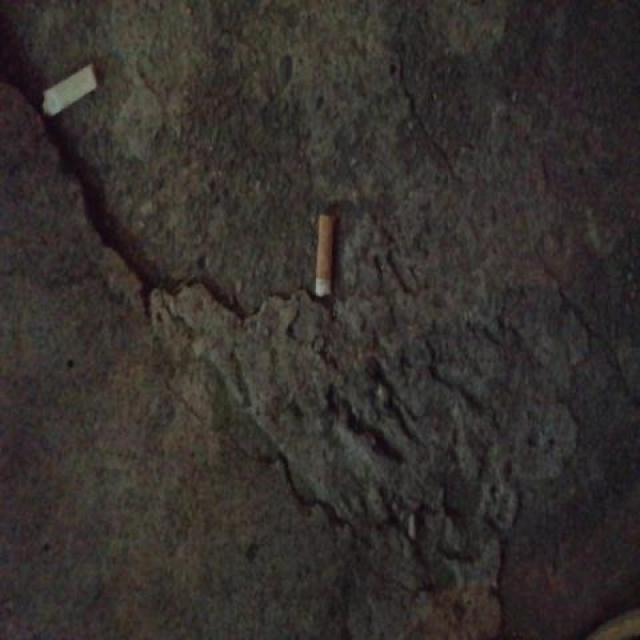non-organic waste: (39, 59, 102, 122), (311, 209, 341, 300)
